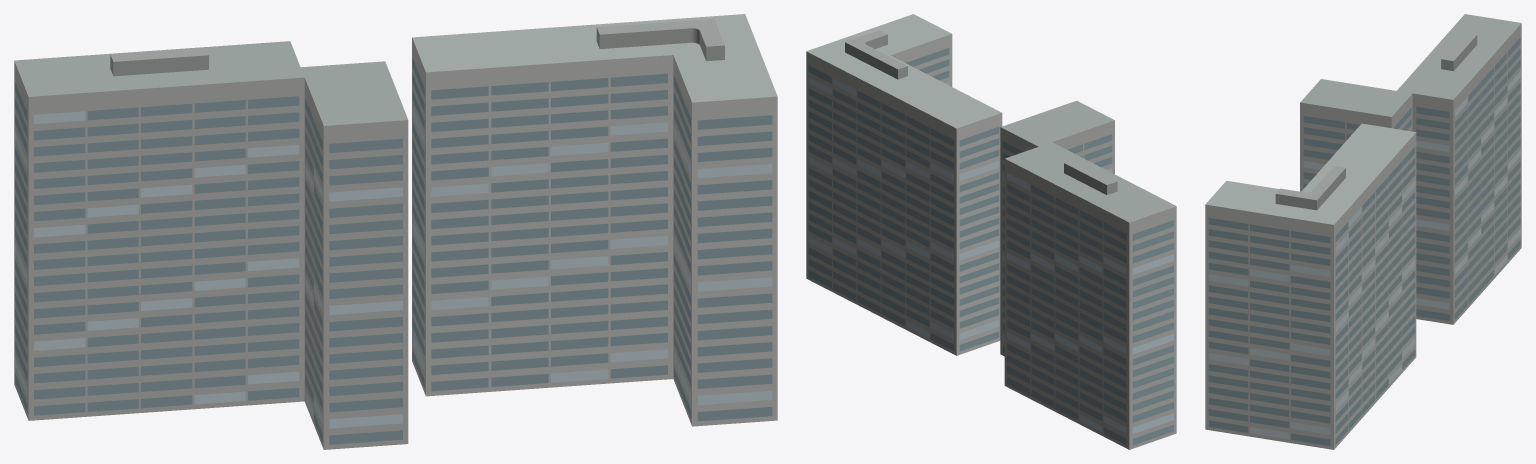
The model's file is apt-a15080501.glb.
3 views of the same model, side by side, from view 1: azimuth 30°, elevation 25°; view 2: azimuth 150°, elevation 25°; view 3: azimuth 270°, elevation 25° (orthographic). The views are drawn at different scales.
Visible parts, largest first — view 1: apt-a15080501; view 2: apt-a15080501; view 3: apt-a15080501.
Part boxes in pixels (left/top/right/bottom): apt-a15080501: left=14, top=14, right=777, bottom=449; apt-a15080501: left=806, top=14, right=1176, bottom=449; apt-a15080501: left=1205, top=14, right=1521, bottom=449.
Bounding box in the file's own units: 108 × 56 × 68.32.
